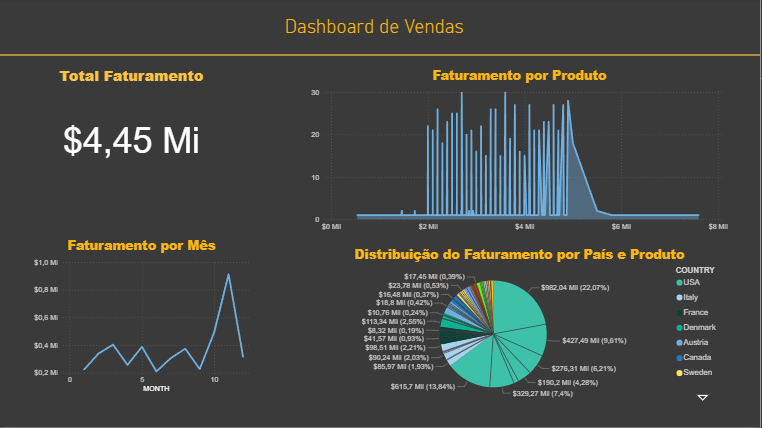

The page's visual inventory and layout, read from the dashboard file:
{"tool":"powerbi","page":{"name":"Página 1","canvas":[1280,720],"ordinal":0},"visuals":[{"type":"textbox","box":[477.1,23.5,325.9,72.2],"z":0},{"type":"shape","box":[0,25.2,1280,141.1],"z":1},{"type":"card","title":"Total Faturamento","fields":{"Values":["Sum(vendas_tratado2.REVENUE)"]},"box":[21.8,114.2,404.8,206.6],"z":2},{"type":"lineChart","title":"Faturamento por Mês","fields":{"Y":["Sum(vendas_tratado2.REVENUE)"],"Category":["vendas_tratado2.MONTH"]},"box":[55.4,399.8,371.2,268.8],"z":3},{"type":"stackedAreaChart","title":"Faturamento por Produto","fields":{"Category":["vendas_tratado2.REVENUE"],"Y":["CountNonNull(vendas_tratado2.PRODUCTLINE)"]},"box":[520.7,114.2,710.6,285.6],"z":4},{"type":"pieChart","title":"Distribuição do Faturamento por País e Produto","fields":{"Category":["vendas_tratado2.COUNTRY"],"Series":["vendas_tratado2.PRODUCTLINE"],"Y":["Sum(vendas_tratado2.REVENUE)"]},"box":[520.7,414.9,710.6,268.8],"z":5}]}

Visuals, with their boxes in screenshot pixels (x1, y1, x2, y2), scaled from the page's 1280x720 canvas onto the 762x428 screenshot:
textbox: 284,14,478,57
shape: 0,15,761,99
"Total Faturamento" card: 13,68,254,191
"Faturamento por Mês" lineChart: 33,238,254,397
"Faturamento por Produto" stackedAreaChart: 310,68,733,238
"Distribuição do Faturamento por País e Produto" pieChart: 310,247,733,406
